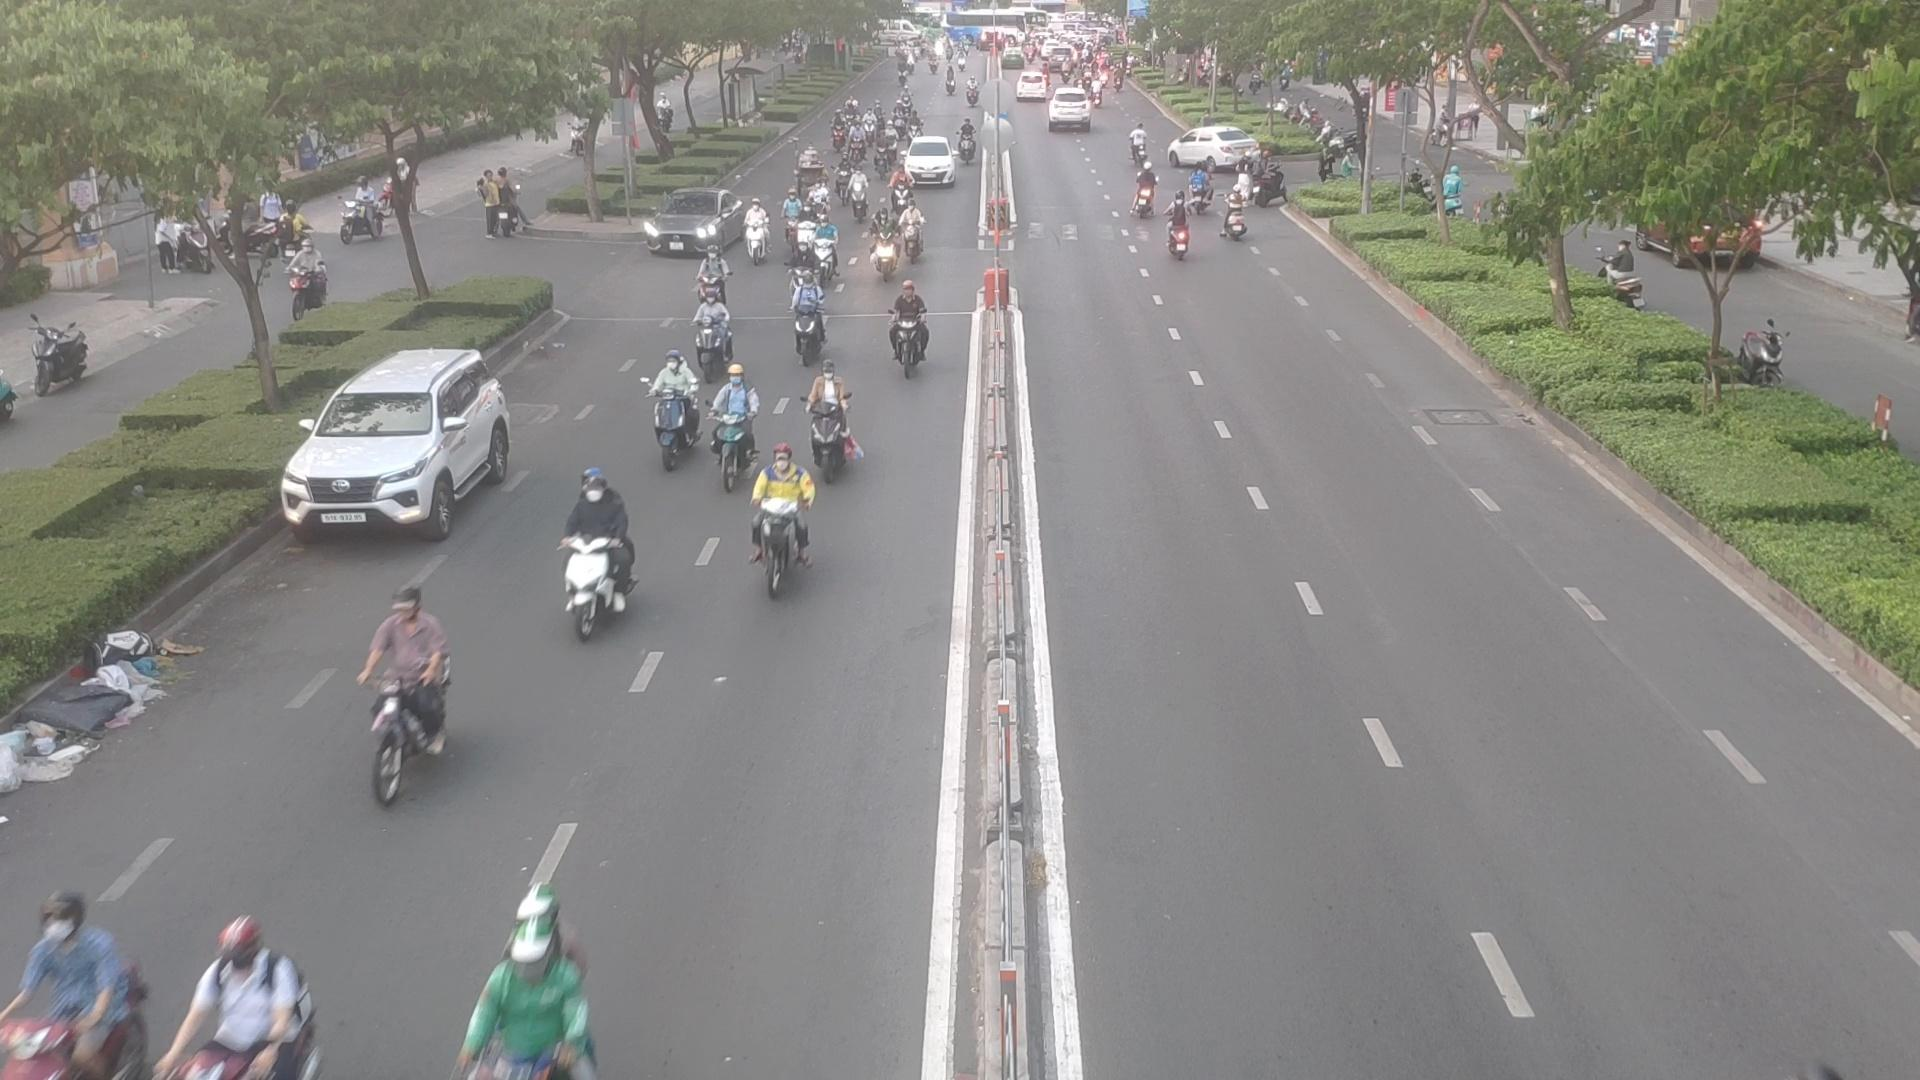car: (280, 345, 520, 539), (640, 193, 752, 261), (1168, 129, 1262, 169), (905, 135, 961, 185)
motorbike: (11, 881, 160, 1080), (328, 604, 458, 818), (179, 906, 313, 1080), (541, 464, 638, 641), (754, 444, 816, 604), (709, 361, 761, 487), (644, 351, 698, 462), (796, 363, 847, 465), (887, 285, 935, 376), (691, 289, 733, 380), (694, 241, 727, 311), (1160, 187, 1192, 260), (866, 207, 899, 276), (796, 276, 820, 365), (745, 196, 770, 272), (1130, 161, 1160, 220), (899, 196, 924, 266), (1185, 161, 1212, 218), (956, 121, 981, 166), (1222, 193, 1245, 240), (798, 206, 818, 257), (816, 222, 831, 284), (847, 171, 866, 216), (783, 194, 800, 245), (832, 160, 852, 200), (847, 124, 866, 165), (890, 167, 909, 211), (872, 138, 891, 177), (1129, 127, 1149, 162), (886, 121, 901, 160)
